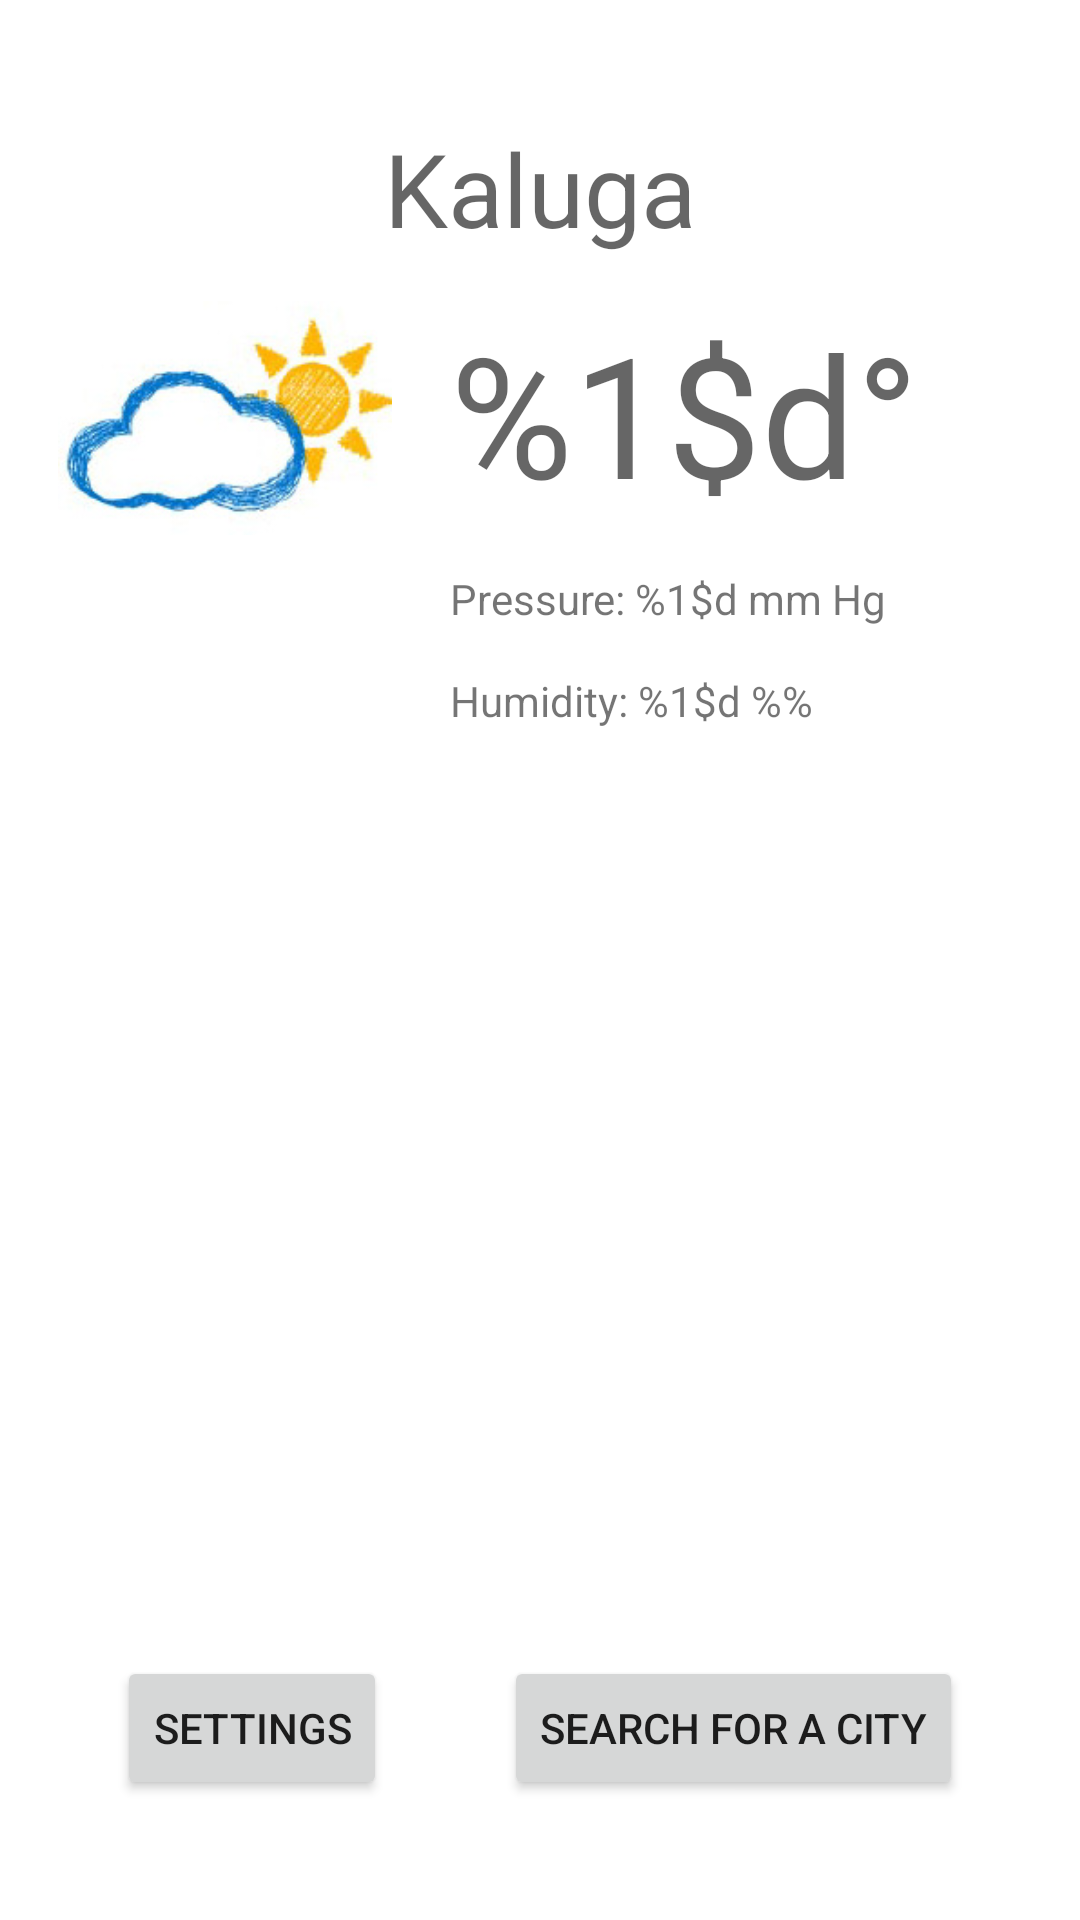

Where icons sit on this 1080px x 1920px app screen, as box(x1, y1, x2, y2):
weather: box(65, 317, 392, 513)
